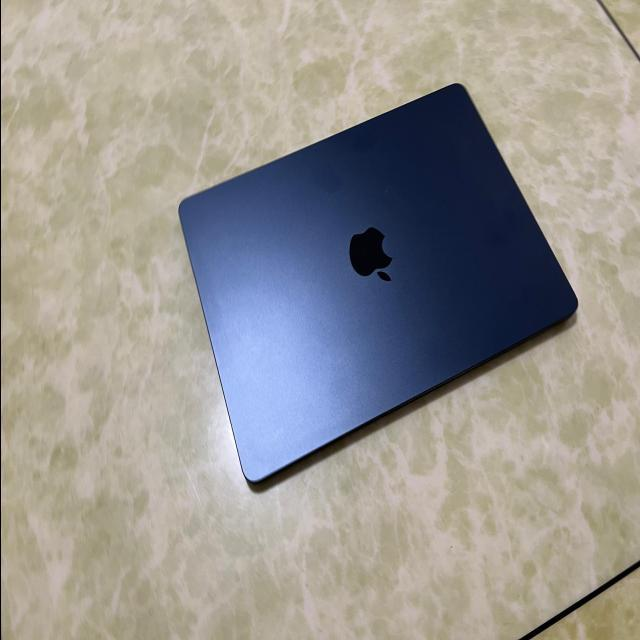laptop: (176, 81, 579, 485)
